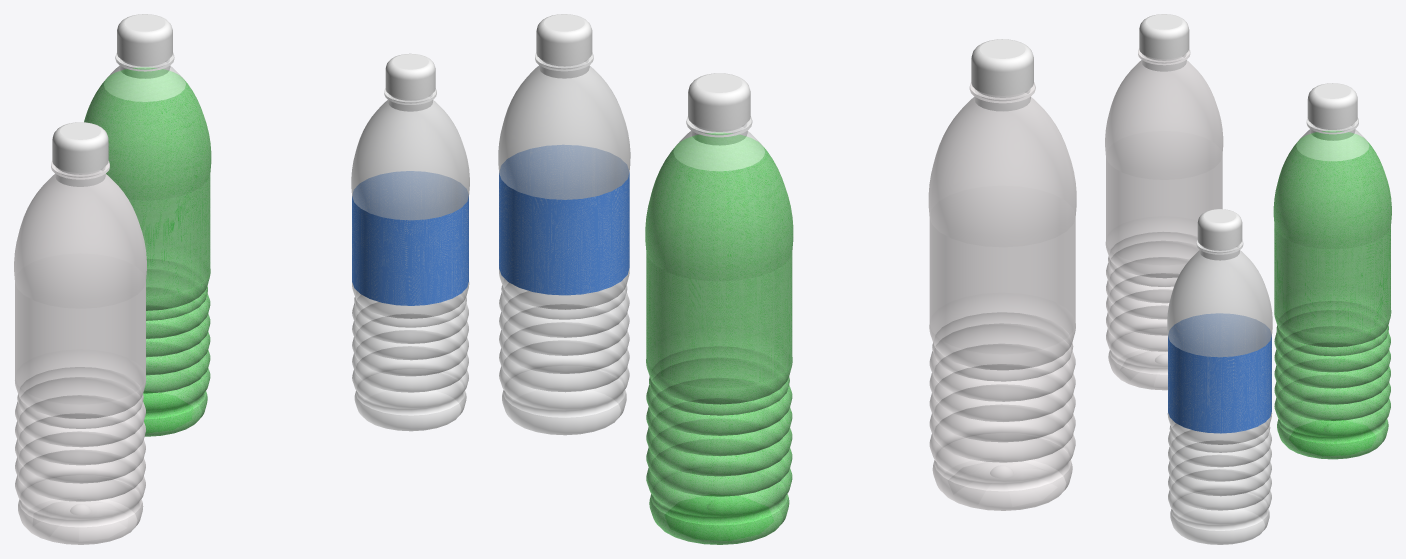
3 views of the same model, side by side, from view 1: azimuth 30°, elevation 25°; view 2: azimuth 150°, elevation 25°; view 3: azimuth 270°, elevation 25° (orthographic). The views are drawn at different scales.
Visible parts, largest first — view 1: group_1 (×3), group_0 (×4), SketchUp (×5); view 2: SketchUp (×5), group_1 (×3), group_0 (×4); view 3: SketchUp (×5), group_0 (×4), group_1 (×3).
Boxes of the visible parts, x1,y1,x2,y2 form: group_1 (×3): [14, 122, 146, 544]; group_0 (×4): [351, 53, 469, 431]; SketchUp (×5): [84, 14, 211, 436]; SketchUp (×5): [645, 73, 793, 544]; group_1 (×3): [928, 39, 1076, 510]; group_0 (×4): [498, 14, 630, 435]; SketchUp (×5): [1273, 83, 1391, 459]; group_0 (×4): [1167, 209, 1272, 544]; group_1 (×3): [1105, 14, 1223, 390].
Bounding box in the file's own units: 269 × 159 × 213.
